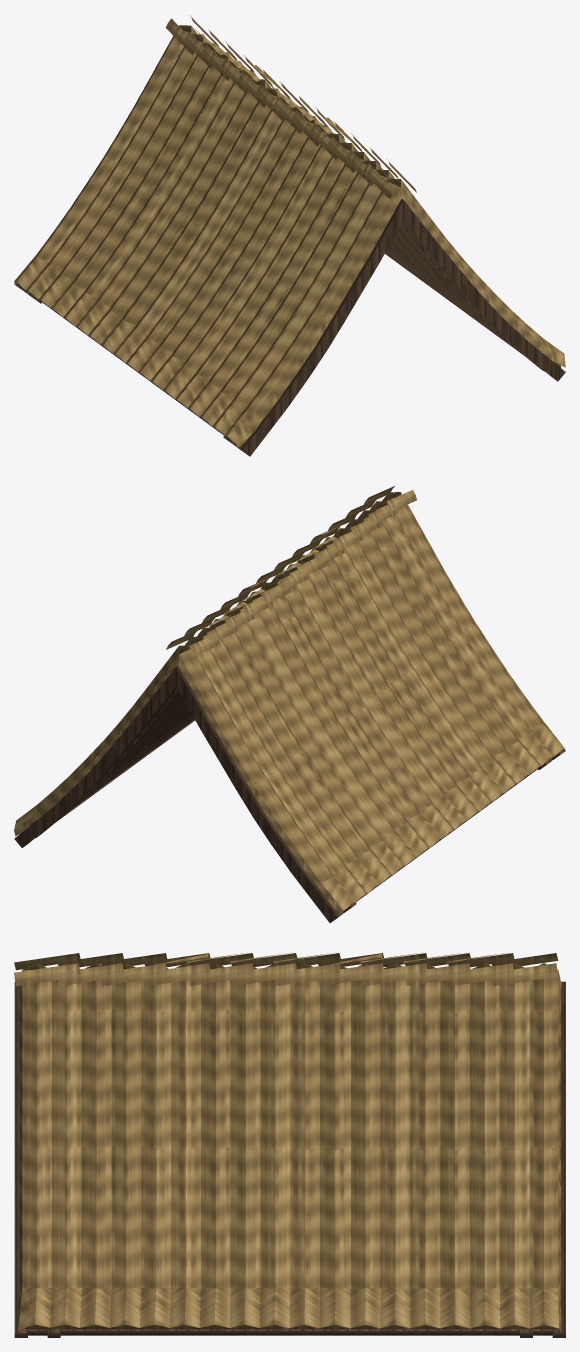
The model's file is Roof_Thatch_6x8.gltf.
3 views of the same model, one above another, from view 1: azimuth 30°, elevation 25°; view 2: azimuth 150°, elevation 25°; view 3: azimuth 270°, elevation 25° (orthographic). The views are drawn at different scales.
Parts seen in each view (by area): view 1: Roof_Thatch_6x8; view 2: Roof_Thatch_6x8; view 3: Roof_Thatch_6x8.
Part boxes in pixels (box(x1,y1,x2,y2)): Roof_Thatch_6x8: box(14, 15, 565, 456); Roof_Thatch_6x8: box(14, 486, 565, 922); Roof_Thatch_6x8: box(14, 952, 565, 1337).
Bounding box in the file's own units: 8.25 × 5.67 × 9.67.
2 materials, 2 textured.
